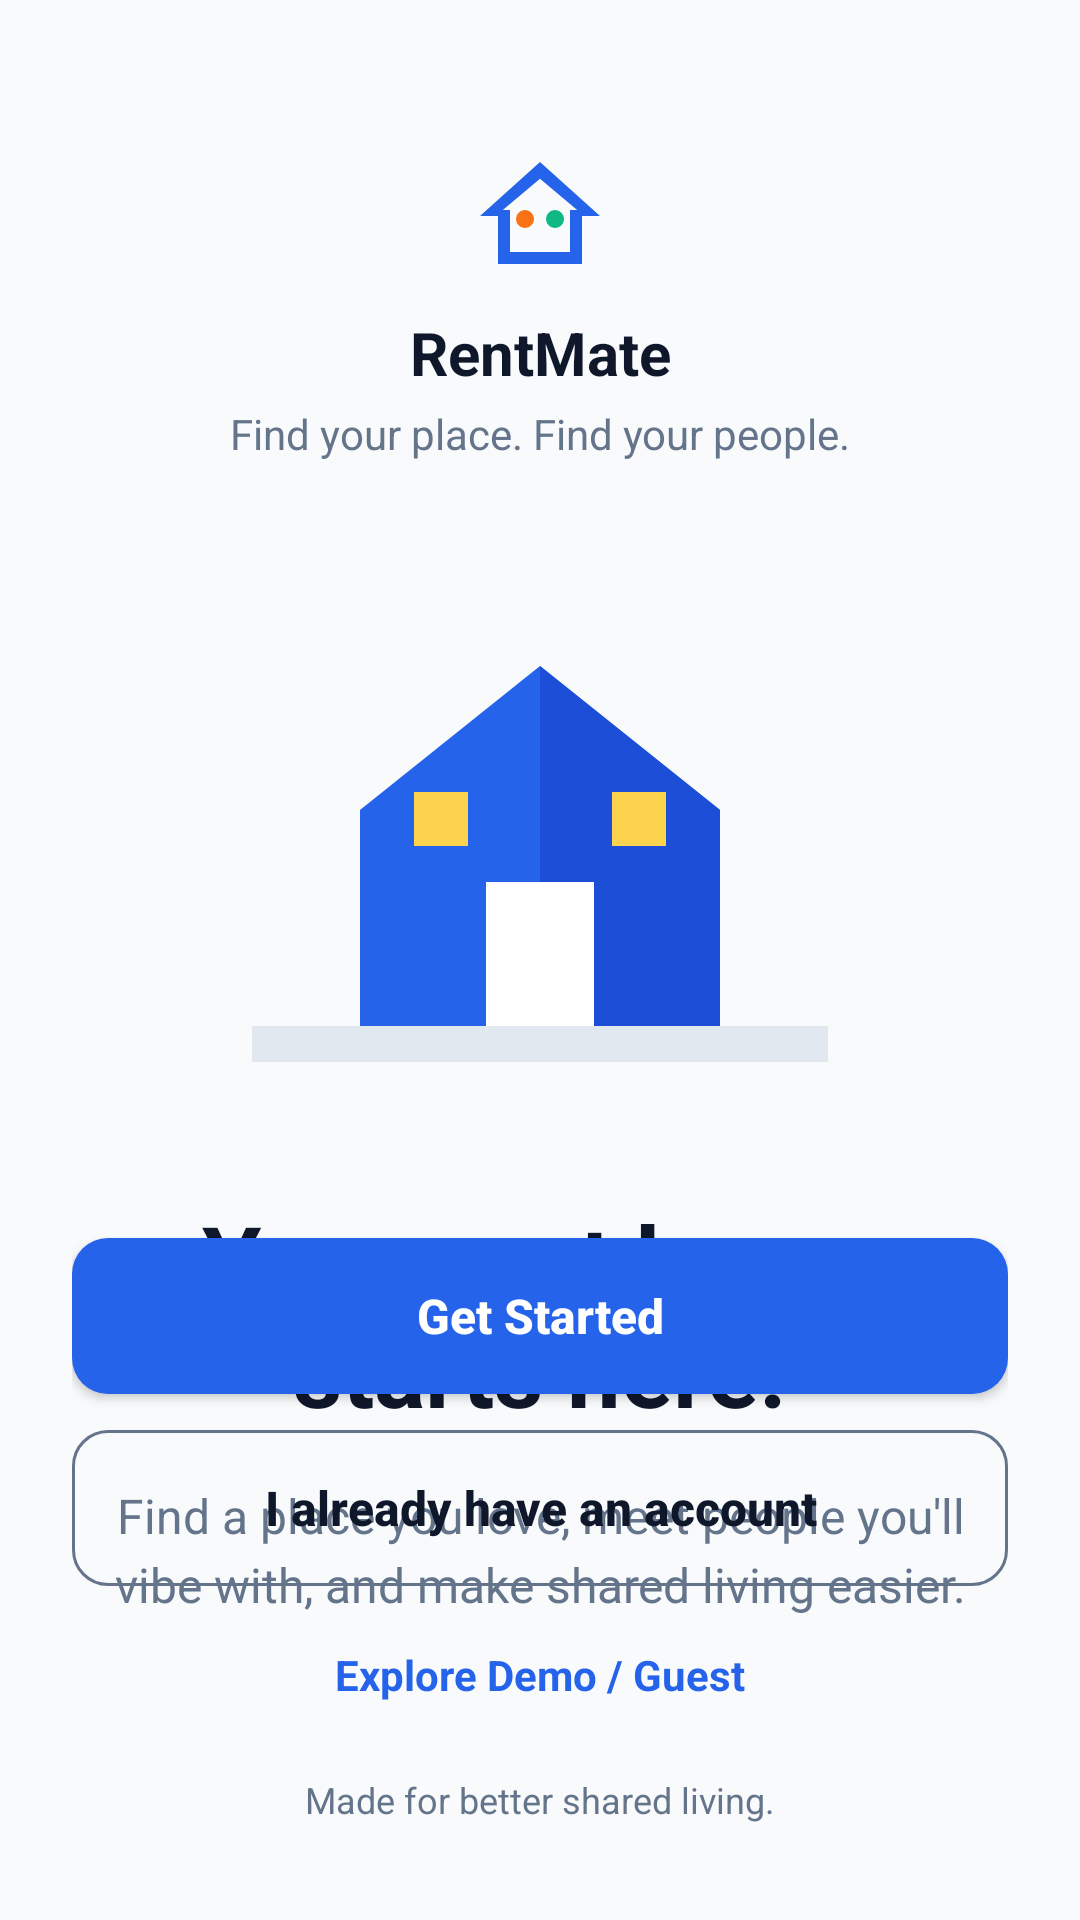

Icons on this 1080 × 1920 Android screen, each with the point to tap as (x=x, y=y):
Illustration: (x=540, y=846)
